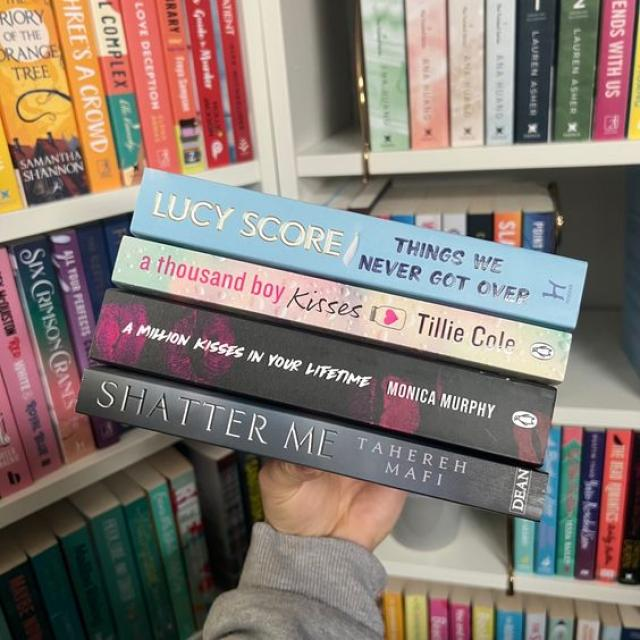book: (89, 288, 555, 464), (130, 170, 589, 329), (76, 370, 549, 523), (112, 234, 573, 381)
